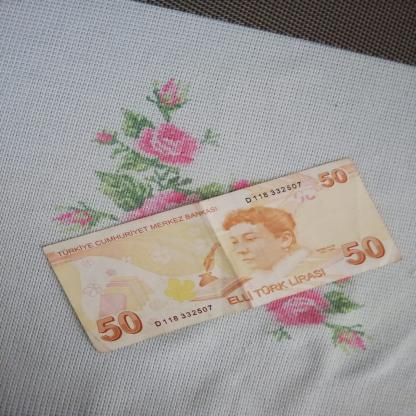5 TL: (41, 157, 404, 354)
